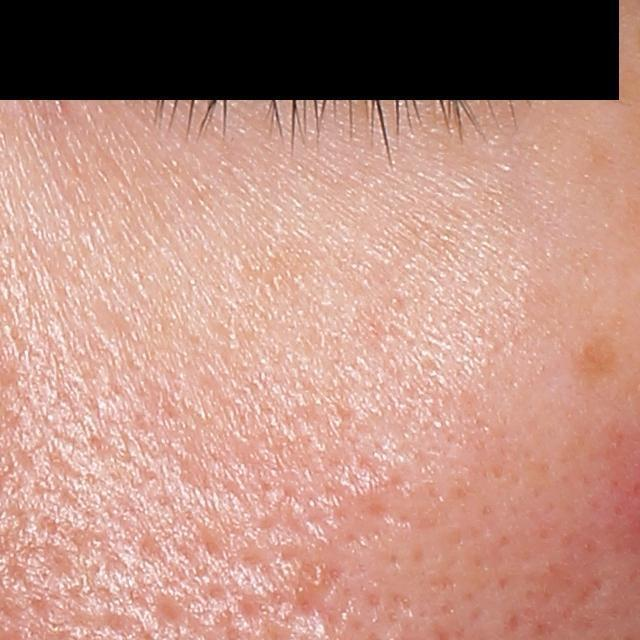atrophic_scar: (149, 592, 197, 635)
melasma: (569, 331, 621, 379)
